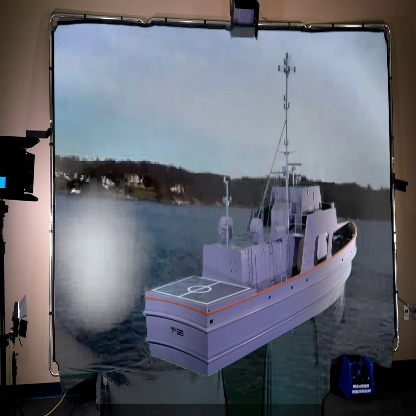YP689: (140, 51, 359, 378)
